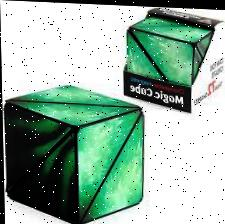cube: (1, 83, 146, 224)
